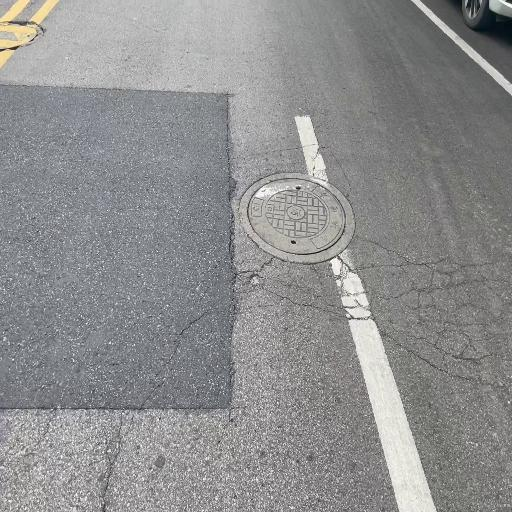Lubang: (247, 176, 351, 263)
Sambungan: (0, 81, 232, 413)
